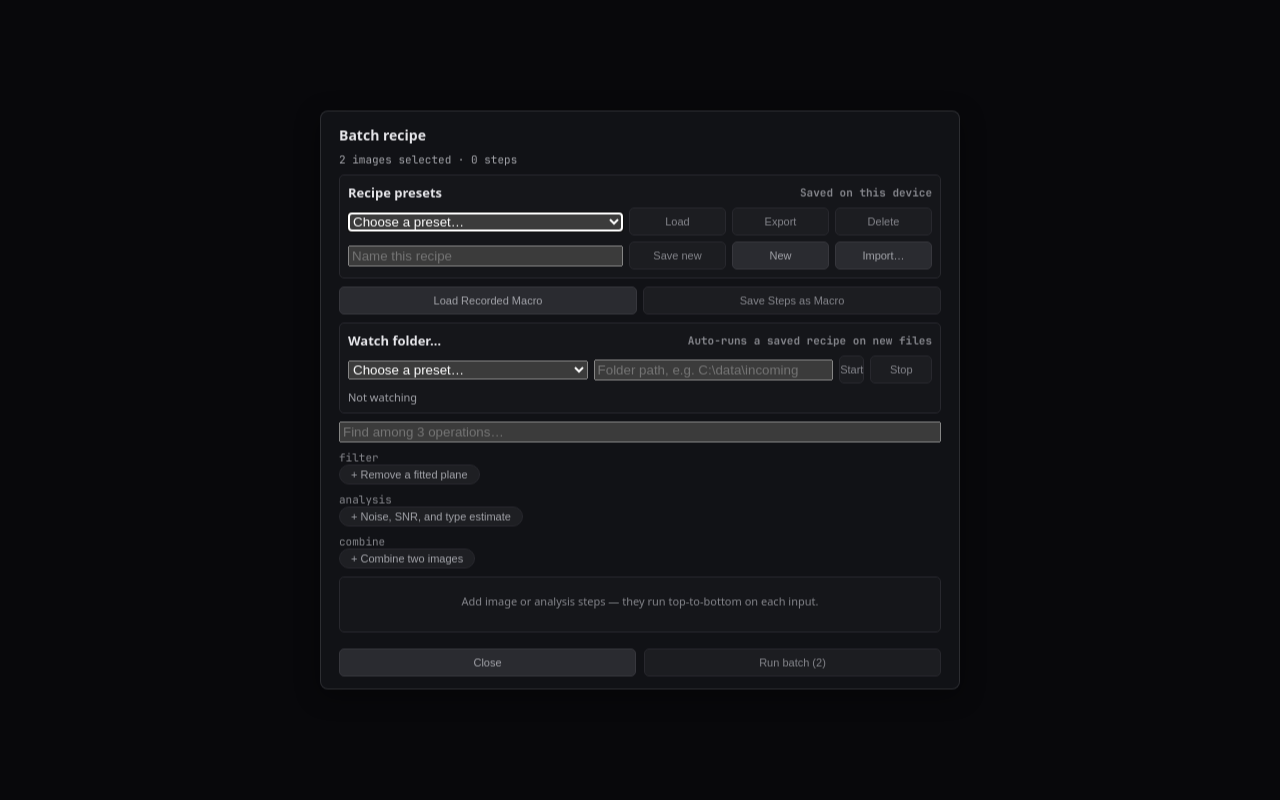
Test: BatchDialog › makes a legacy preset's required named input bindable
The width and height of the screenshot is (1280, 800).
Expected: the button "+ Combine two images" is shown, [339,548,475,568]
Select "Legacy image math · 1 step" in the dropdown named "Saved recipe preset" at [486, 222], box [348,212,623,231]
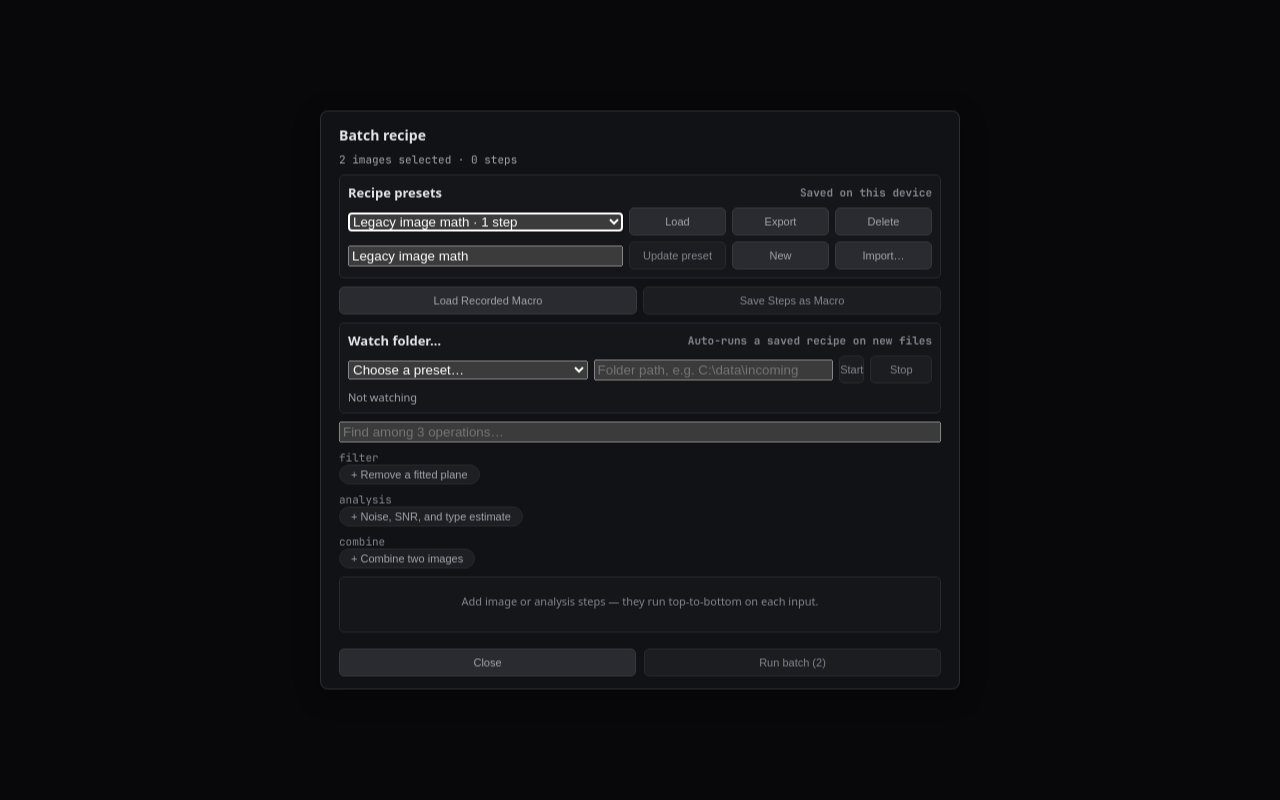
Click the button "Load".
click(678, 222)  # box [629,208,726,236]
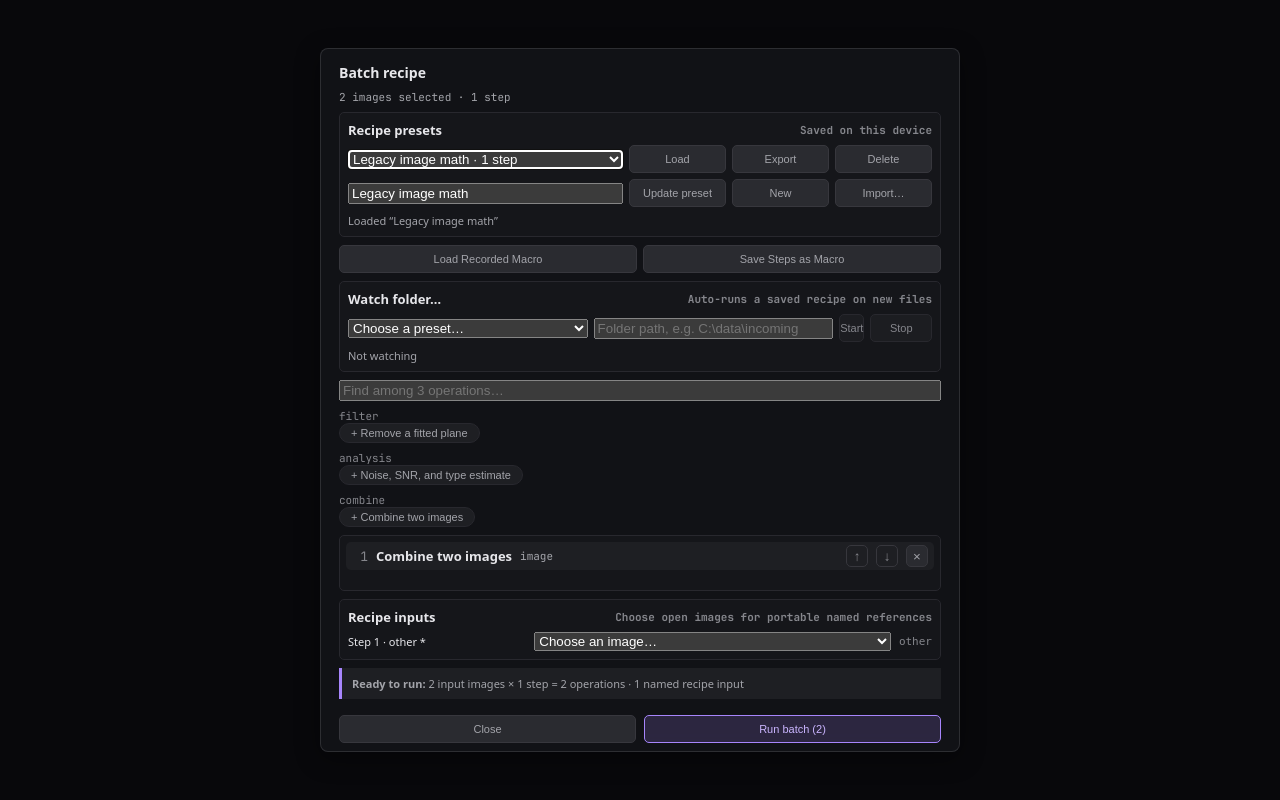
Result: the dropdown named "Step 1 other input" is shown at [534,632,891,651]
Result: the text "other" is shown at [899,635,932,648]
